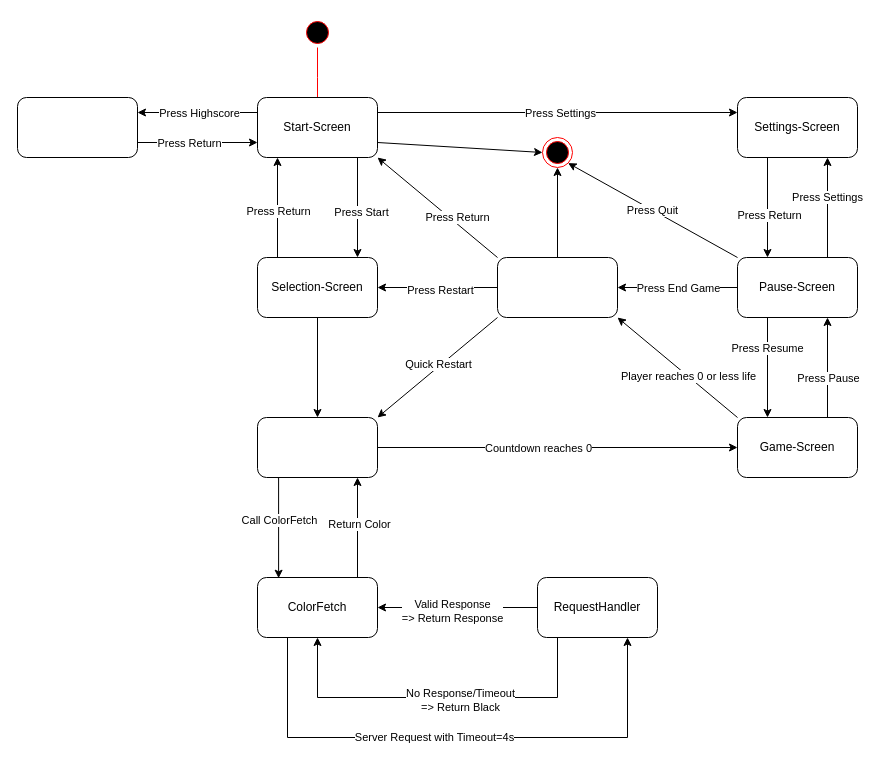
Some shapes in this 880 by 763 pixel diagram are drawn without their labels. The centre of each missing label's shape, as x and y in pixels:
Countdown-Screen: [317,447]
End-Screen: [557,287]
Highscore-Screen: [77,127]
